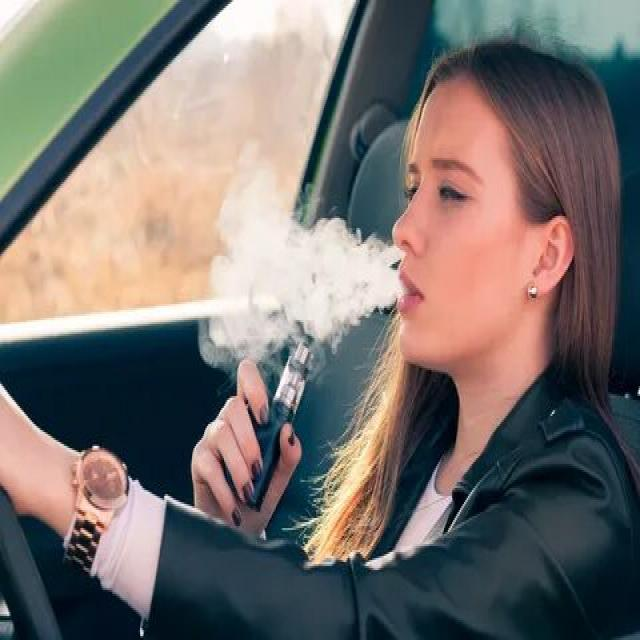smoke: (233, 328, 323, 514)
